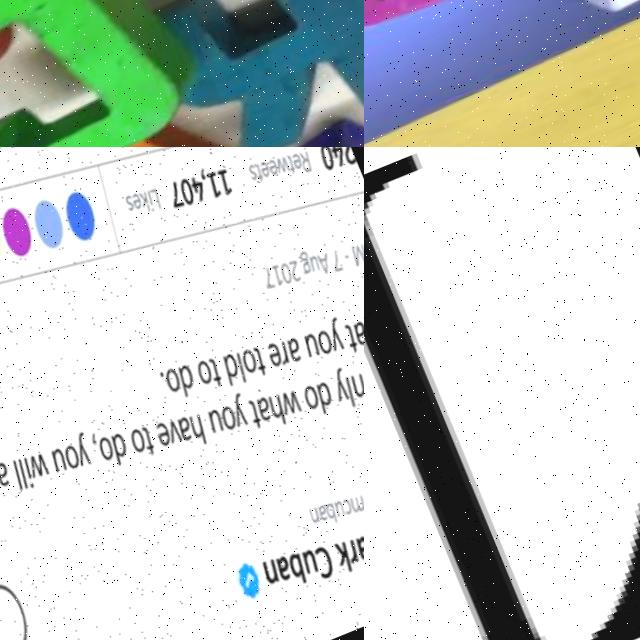0: (173, 174, 198, 207), (312, 147, 338, 172), (275, 260, 294, 285)
1: (210, 165, 236, 200), (200, 168, 226, 202), (267, 261, 286, 287)
2: (283, 256, 303, 283), (334, 147, 356, 167)
4: (184, 170, 211, 207), (323, 147, 349, 169)
7: (162, 176, 187, 209), (325, 245, 346, 272), (257, 263, 277, 290)
C: (0, 0, 210, 147)
E: (0, 85, 286, 147)
K: (104, 0, 364, 147)
T: (364, 147, 640, 640)
